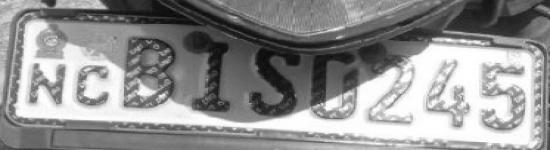0: (308, 46, 360, 125)
2: (362, 46, 423, 135)
4: (421, 55, 474, 133)
5: (473, 54, 528, 138)
B: (118, 32, 178, 113)
C: (72, 62, 112, 111)
I: (188, 38, 235, 115)
N: (24, 61, 70, 110)
S: (245, 39, 301, 124)
